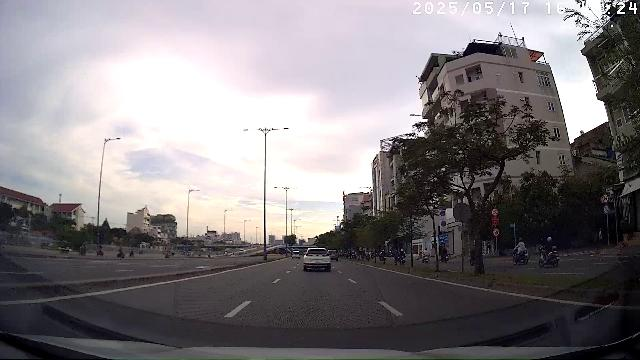127-toc-do-toi-da-50: (492, 228, 500, 237)
